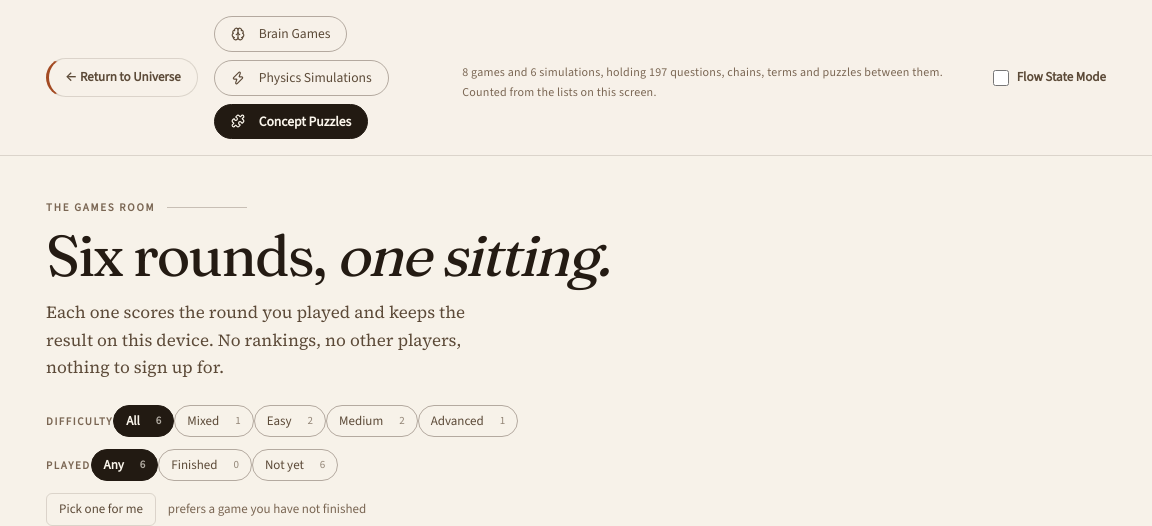
Scenario: the difficulty filter › All puts the grid back
What coordinates should you click on to do the following:
click the button "Easy 2"
I would click on:
 (290, 421)
Its box is [254, 405, 326, 437].
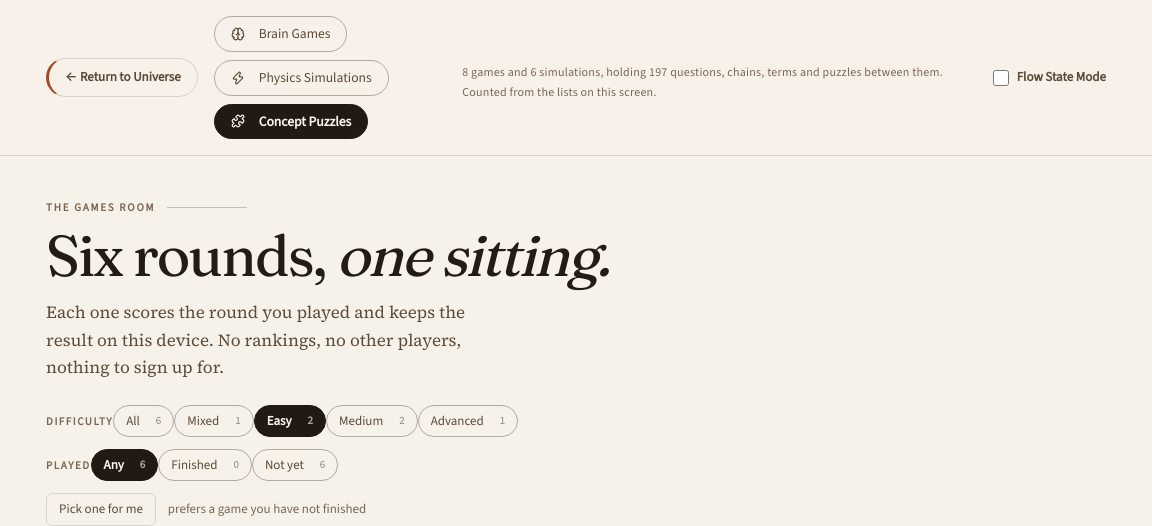
What coordinates should you click on to do the following:
click the button "All 6"
I would click on:
 (144, 421)
Its box is [113, 405, 174, 437].
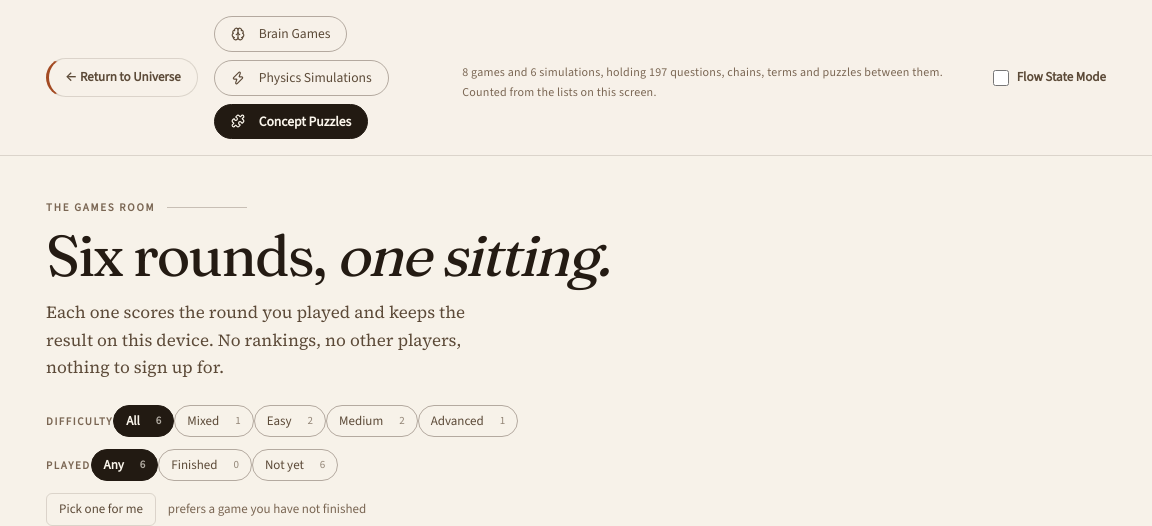
Now the number of buttons with test id "game-card" is 6
